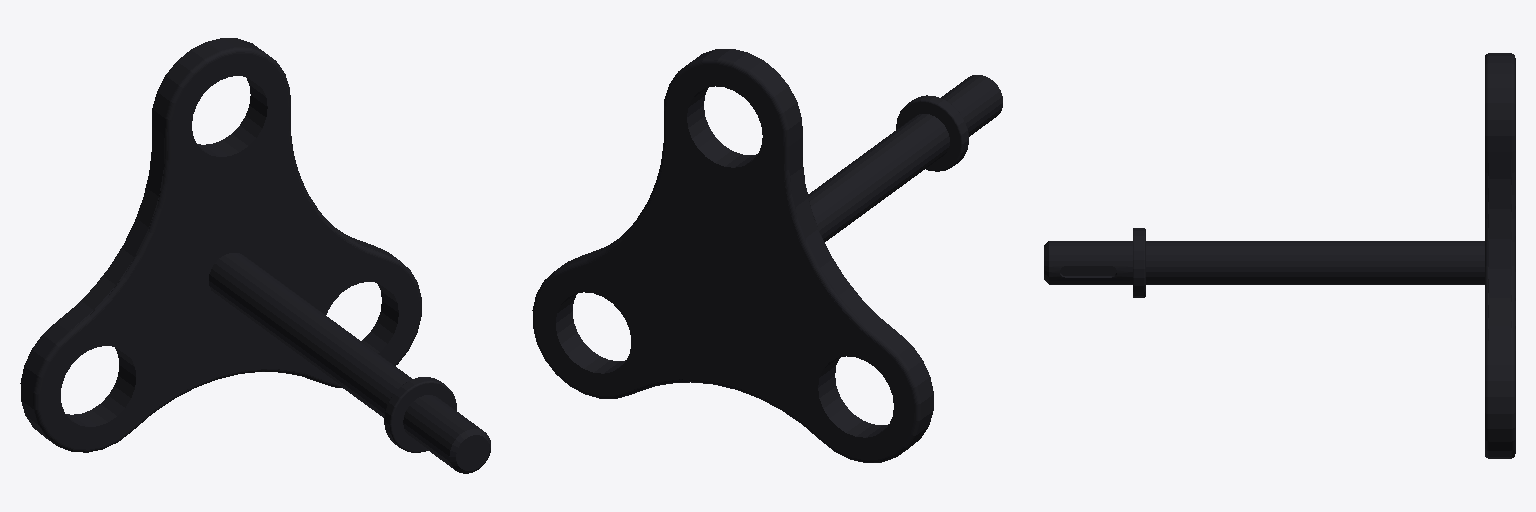
URDF robot description (carrier_plate):
<?xml version="1.0"?>
<!--
  CARRIER PLATE — carrier_plate.urdf
  =========================================================================
  Source mesh   : meshes/Carrier.obj  (Fusion 360 export, units = cm)
  Raw bbox      : 4.608 x 5.350 x 4.191 (cm) -> ~46 x 53.5 x 42 mm
  Scale applied : 0.01  (cm -> m)
  Final size    : ~46 x 53.5 x 42 mm -> largest axis (53.5mm) is well
                  under the 80mm gripper opening; part is graspable
                  across any of its three principal axes.

  Mass hardcoded to 1.0 kg per spec (simulation override).
-->
<robot name="carrier_plate">

  <material name="anthracite_steel">
    <color rgba="0.16 0.16 0.18 1.0"/>
  </material>

  <link name="carrier_plate_link">

    <inertial>
      <!--
        Approximated as a solid box: Lx=0.04608m, Ly=0.0535m, Lz=0.04191m,
        m=1.0kg. Box approximation chosen over a disk because the carrier
        mesh's largest extent (Y) exceeds its in-plane extents, indicating
        integrated pin/post geometry rather than a flat disc.
      -->
      <origin xyz="0 0 0" rpy="0 0 0"/>
      <mass value="1.0"/>
      <inertia ixx="3.848e-04" ixy="0.0" ixz="0.0"
               iyy="3.233e-04" iyz="0.0"
               izz="4.154e-04"/>
    </inertial>

    <visual>
      <origin xyz="0 0 0" rpy="0 0 0"/>
      <geometry>
        <mesh filename="../meshes/Carrier.obj" scale="0.01 0.01 0.01"/>
      </geometry>
      <material name="anthracite_steel"/>
    </visual>

    <collision>
      <origin xyz="0 0 0" rpy="0 0 0"/>
      <geometry>
        <mesh filename="../meshes/Carrier.obj" scale="0.01 0.01 0.01"/>
      </geometry>
    </collision>

  </link>

  <!--
    Genesis friction: set at load time via material, e.g.
        gs.materials.Rigid(friction=1.0)
  -->
  <gazebo reference="carrier_plate_link">
    <mu1>1.0</mu1>
    <mu2>1.0</mu2>
  </gazebo>

</robot>

--- Facts derived from the render (not from the file) ---
The picture shows the robot from 3 angles, left to right: view 1: azimuth 30°, elevation 25°; view 2: azimuth 150°, elevation 25°; view 3: azimuth 270°, elevation 25°; orthographic projection.
Robot: carrier_plate — 1 links, 0 joints (none); root link carrier_plate_link; default pose: every joint at zero.
Visible links, largest first — view 1: carrier_plate_link; view 2: carrier_plate_link; view 3: carrier_plate_link.
Boxes of the visible links, <box> form: carrier_plate_link: <box>20,38,490,473</box>; carrier_plate_link: <box>532,49,1002,462</box>; carrier_plate_link: <box>1044,53,1515,458</box>.
Size in the robot's own frame: 0.0461 by 0.0535 by 0.0419 metres.
Meshes: 1 distinct files referenced, 1 mesh visuals loaded (1 OBJ).
